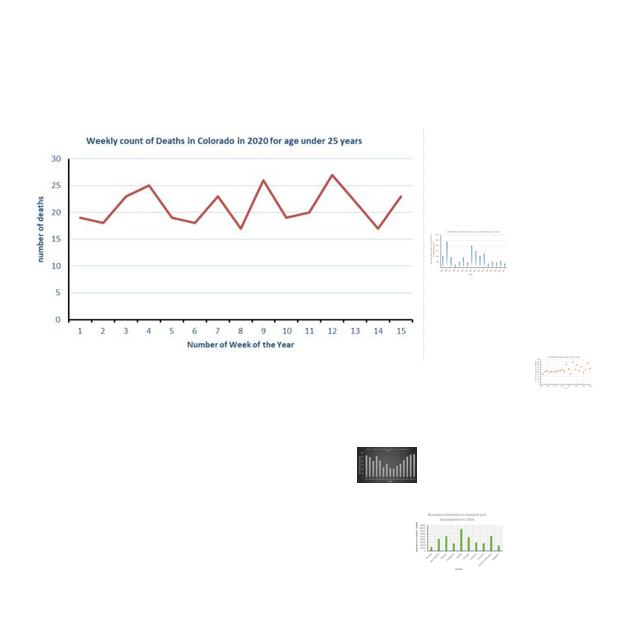Graph: (26, 128, 425, 362), (414, 511, 504, 572), (429, 230, 508, 276), (357, 447, 417, 483), (534, 355, 593, 390)
